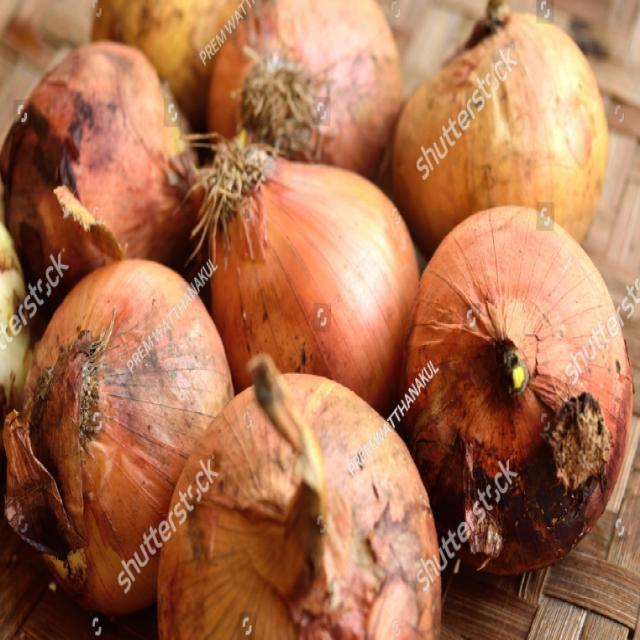rotten: (532, 398, 614, 544), (18, 386, 75, 574), (34, 108, 84, 180)
